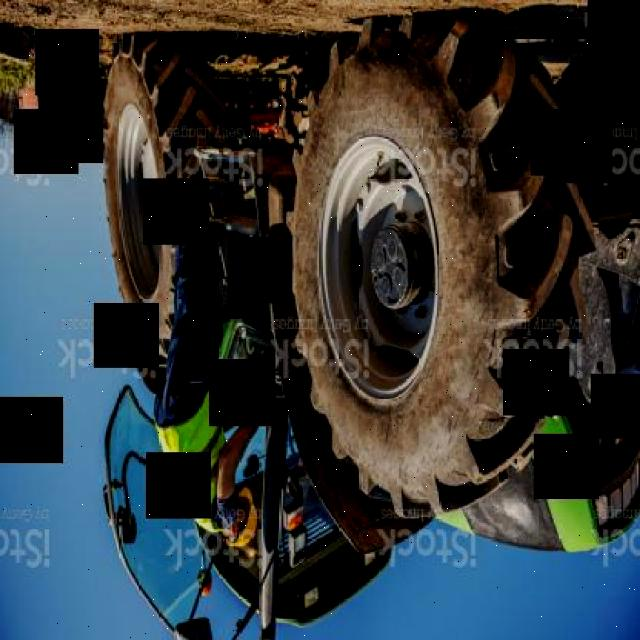Tratores - v5 YOLO V8L 2024-11-13: (88, 2, 640, 640)
